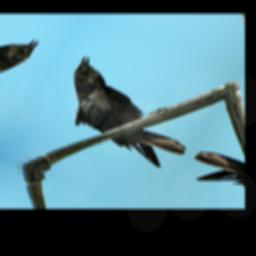Crow: (37, 54, 220, 173)
